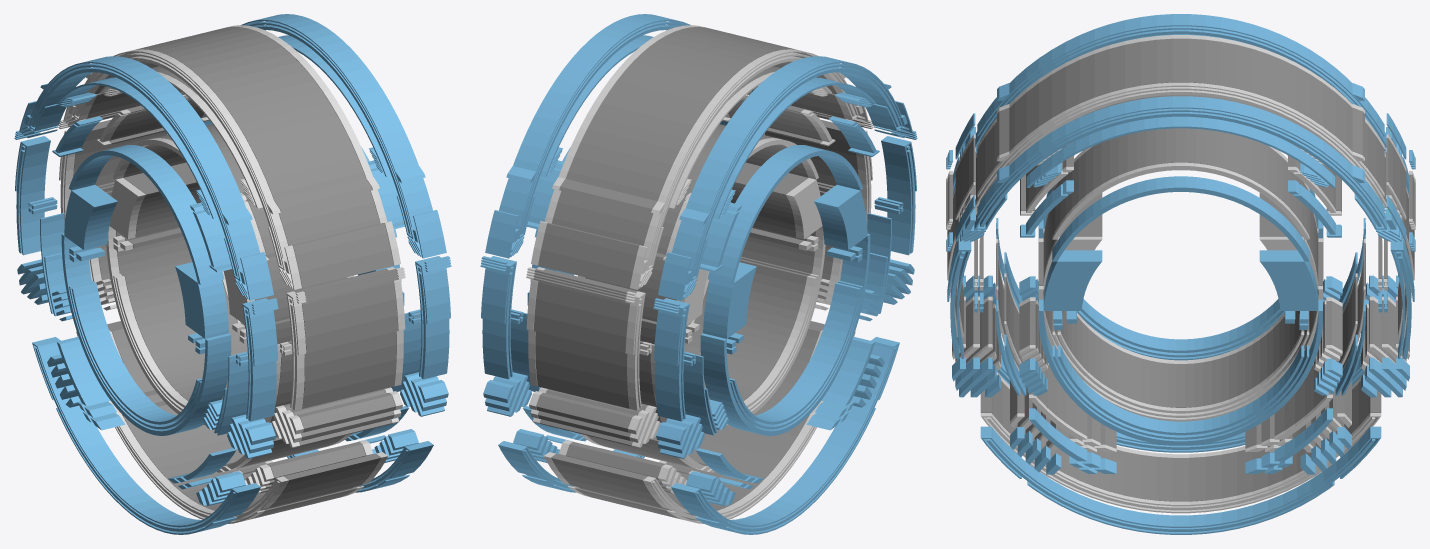
File: hightech_tube.fbx
The picture shows the model from 3 angles, left to right: view 1: azimuth 30°, elevation 25°; view 2: azimuth 150°, elevation 25°; view 3: azimuth 270°, elevation 25°; orthographic projection. The views are drawn at different scales.
Parts seen in each view (by area): view 1: Mesh, Mesh.001; view 2: Mesh, Mesh.001; view 3: Mesh, Mesh.001.
Boxes of the visible parts, x1=… form: Mesh: x1=58, y1=25, x2=405, y2=523; Mesh.001: x1=14, y1=14, x2=451, y2=534; Mesh: x1=526, y1=25, x2=873, y2=523; Mesh.001: x1=480, y1=14, x2=917, y2=534; Mesh: x1=946, y1=35, x2=1415, y2=513; Mesh.001: x1=946, y1=14, x2=1415, y2=534.
Bounding box in the file's own units: 86.85 × 185 × 184.
